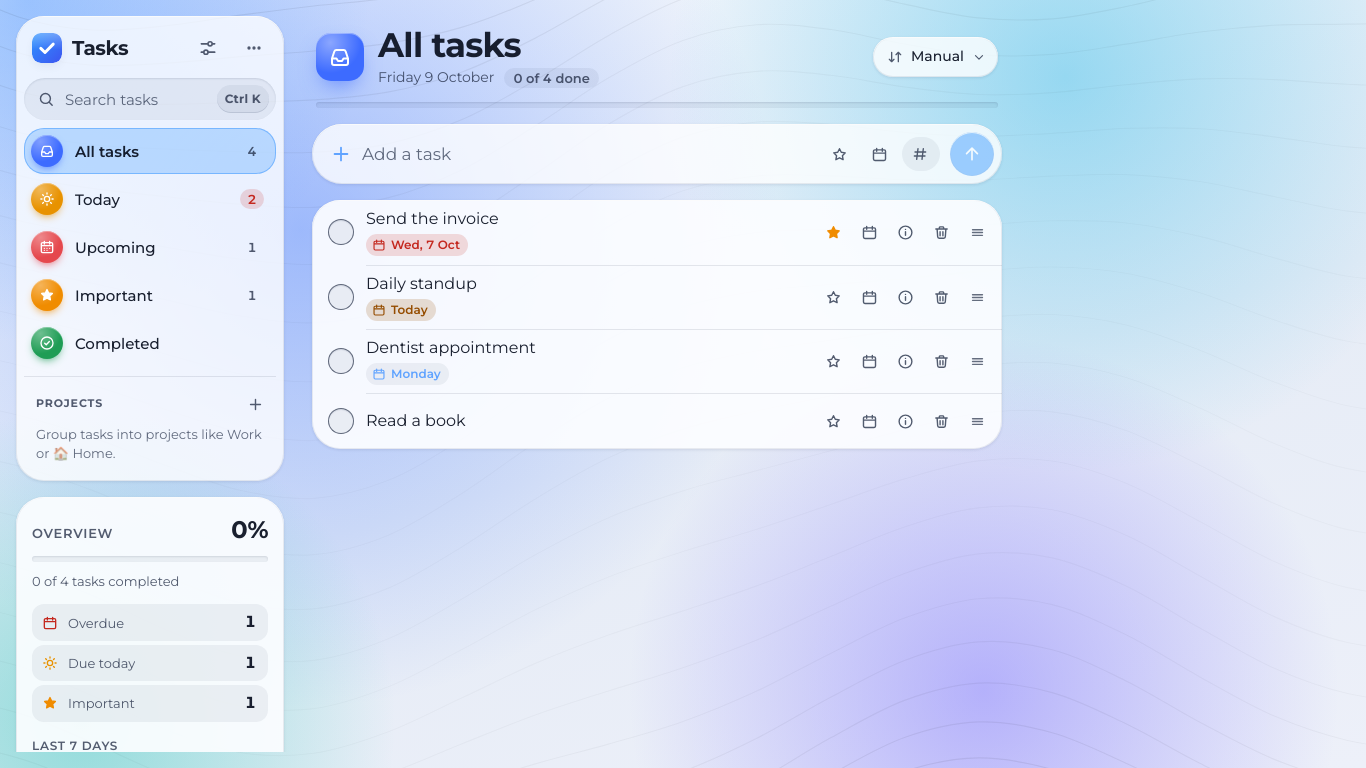
Layout › switches to any of the ten languages
This screenshot has width=1366, height=768.
Click the button named "Settings" at (208, 48), box [186,26,230,70]
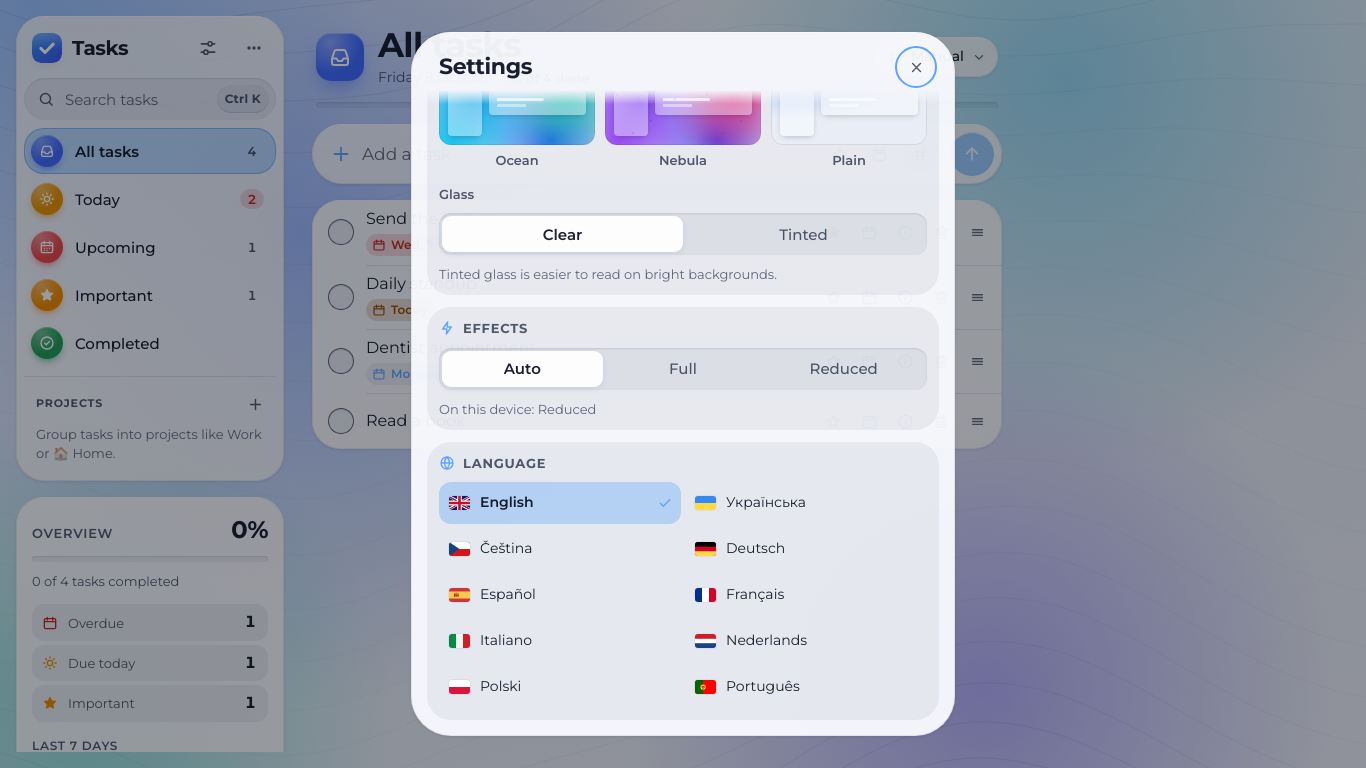
Click the radio button labelled "Deutsch" at (740, 548), box [695,539,785,557]
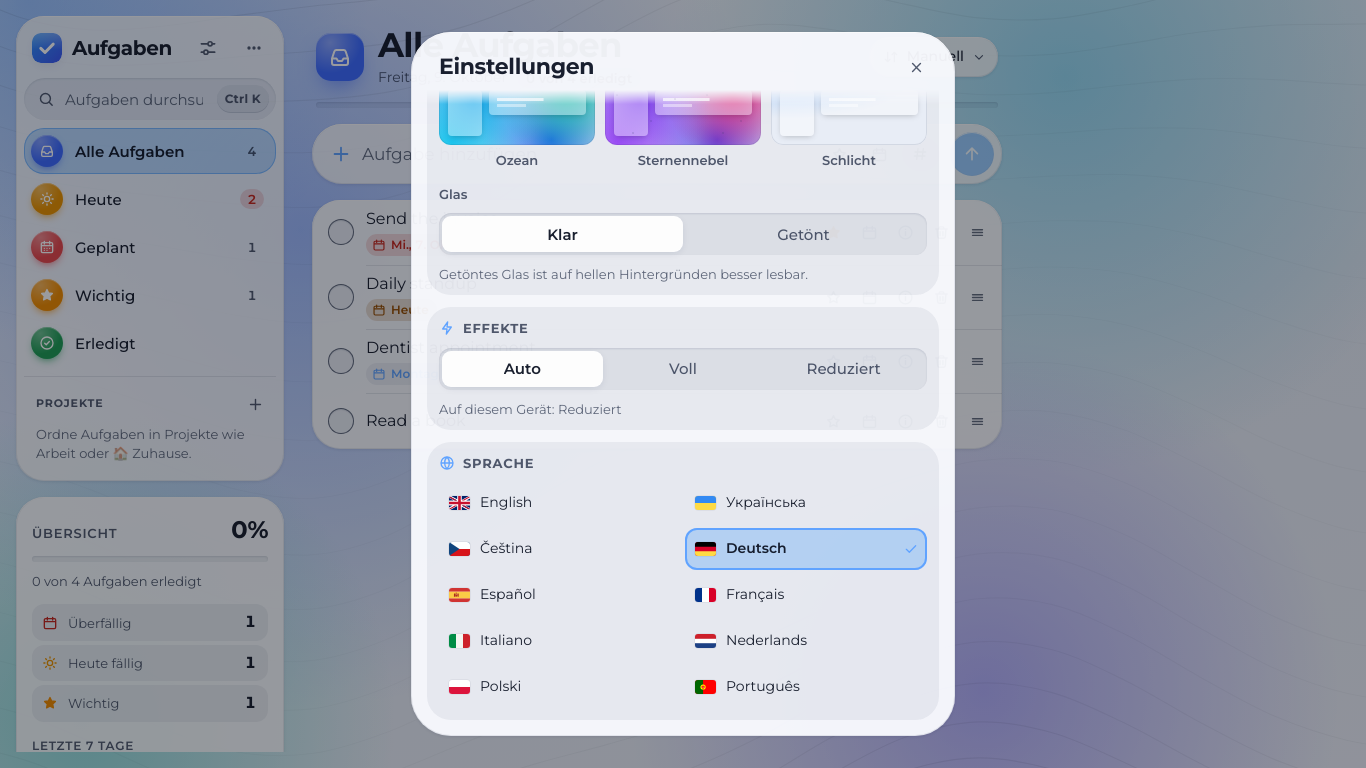
Expected: the heading "Alle Aufgaben" is shown, [378,24,622,66]
Expected: the field named "Neue Aufgabe" is shown, [362,132,812,176]
